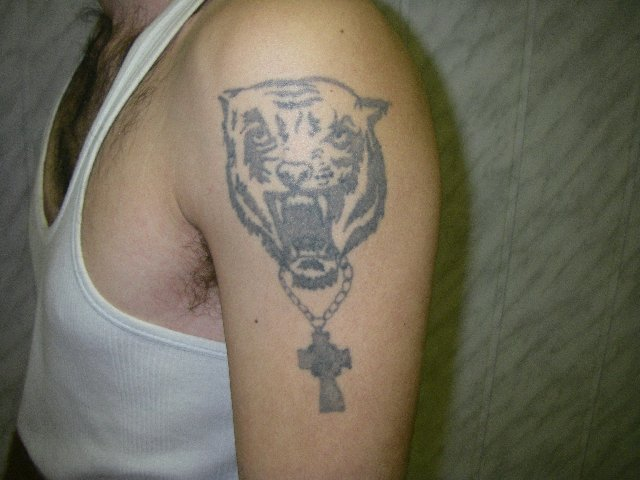tatu5_tigr: (214, 76, 394, 287)
tatu9_krest: (296, 330, 356, 415)
